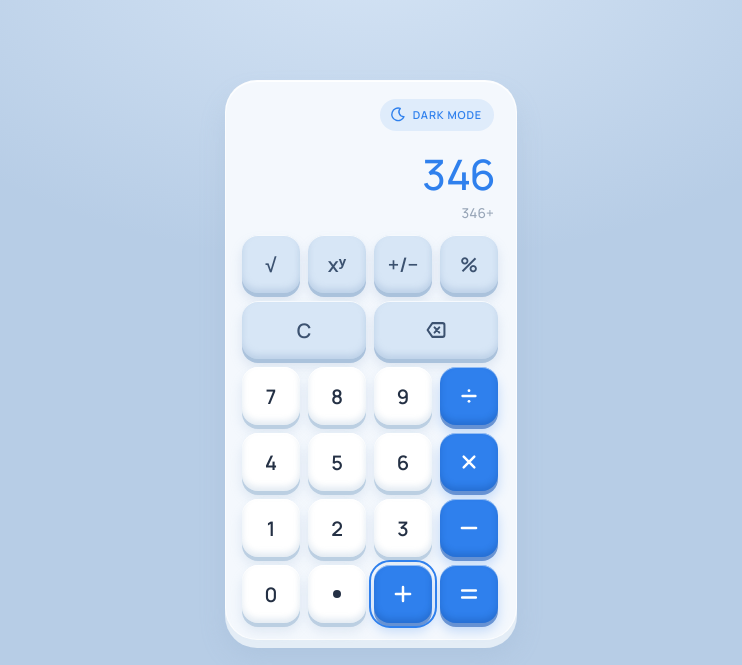
Test case: calculator UI › evaluates 346 + 74 × 24 through the API
This screenshot has width=742, height=665.
Earlier steps of the test are not shown.
Click the button "7": click(271, 396) [242,367,300,425]
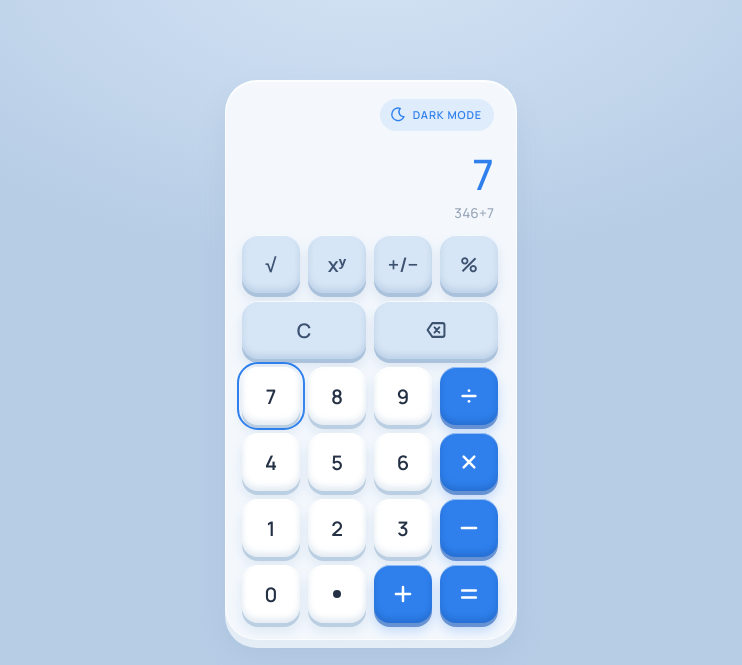
Click the button "4": click(271, 462) [242,433,300,491]
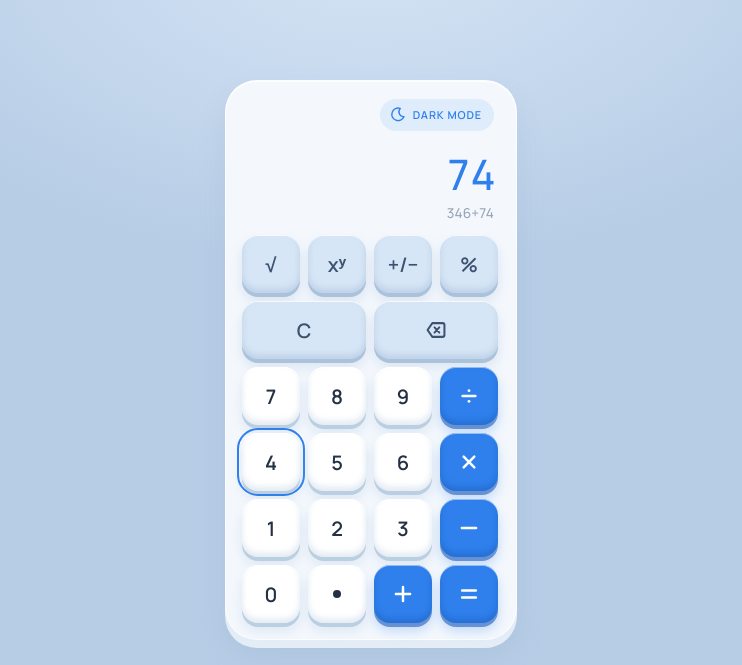
Click the button named "Multiply": click(469, 462) [440,433,498,491]
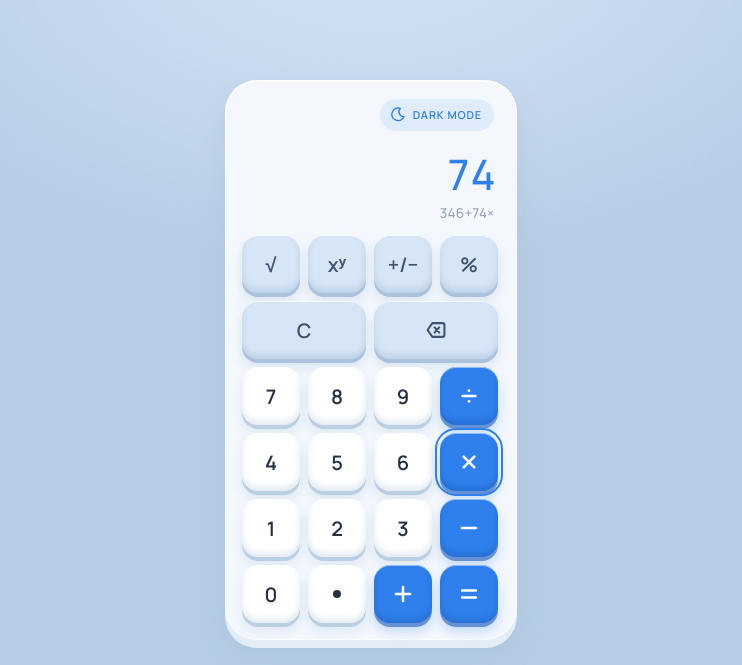
Click the button "2": click(337, 528) [308,499,366,557]
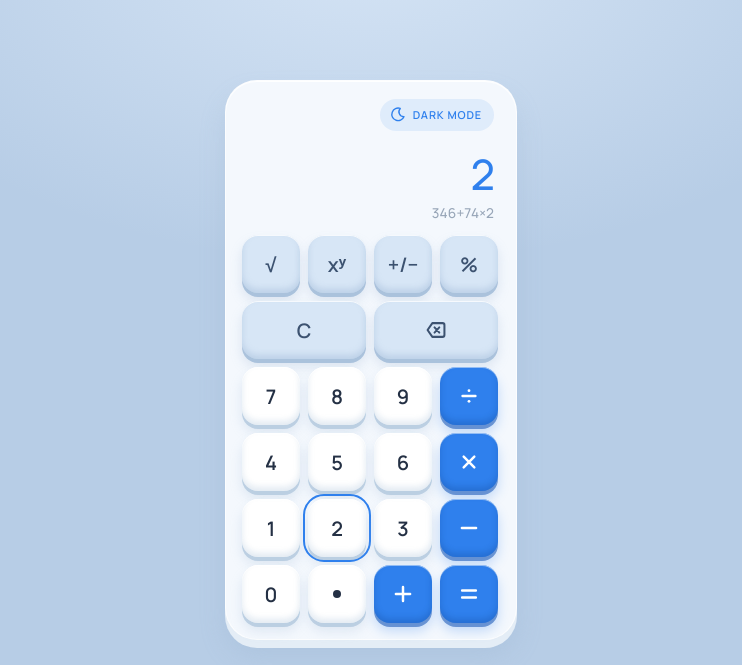
Click the button "4": click(271, 462) [242,433,300,491]
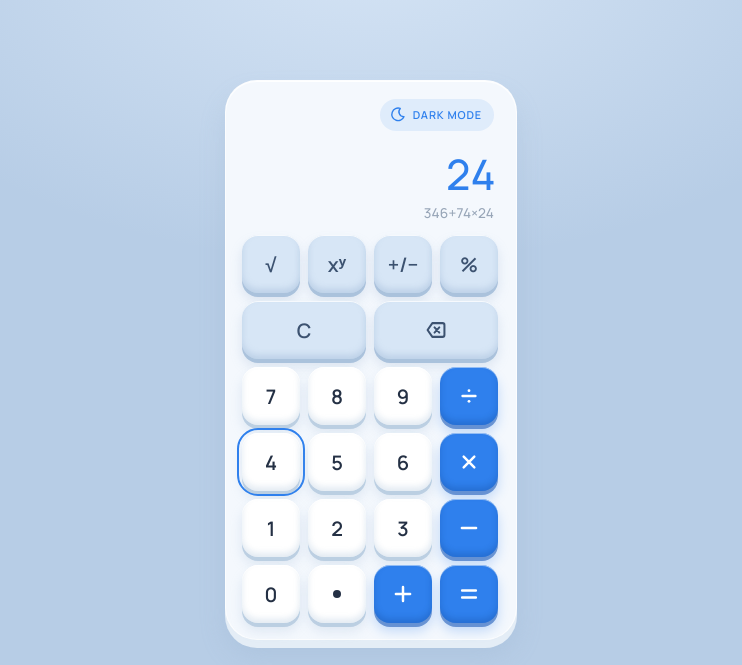
Click the button named "Equals": click(469, 594) [440,565,498,623]
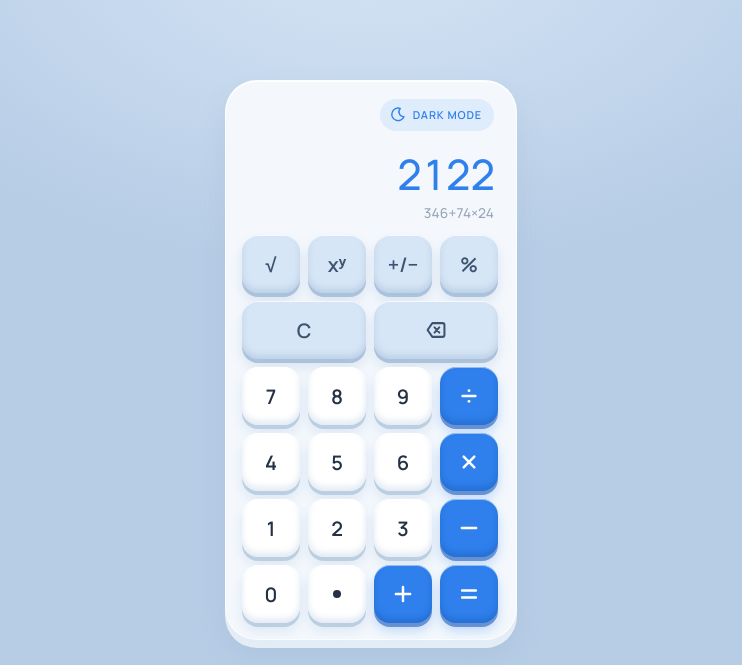
Check: the text "346+74×24" is shown, box [424,204,494,222]
Check: the text "2122" is shown, box [396,145,494,203]
